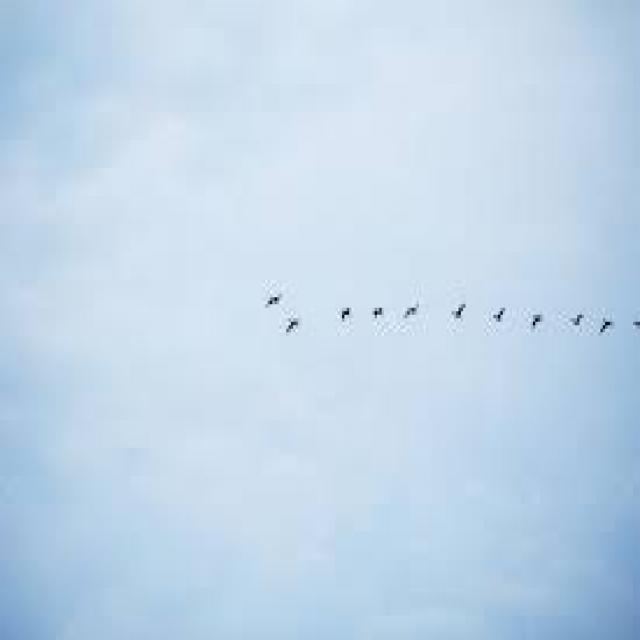bird: (593, 299, 624, 355), (524, 302, 550, 348), (442, 287, 468, 329), (396, 290, 422, 326), (260, 280, 286, 315), (565, 302, 589, 338), (488, 292, 508, 334), (284, 312, 314, 338), (333, 300, 356, 332), (366, 297, 384, 322)
